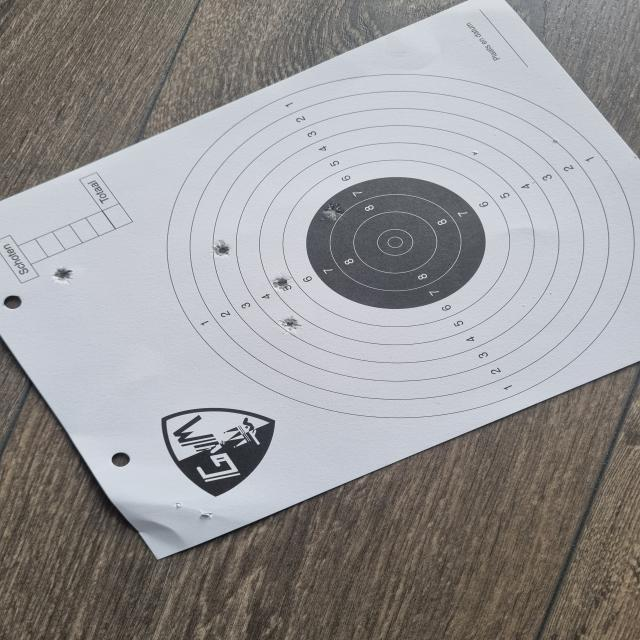0: (51, 268, 72, 284)
3: (210, 239, 231, 257)
4: (279, 316, 303, 332)
5: (268, 277, 291, 291)
8: (323, 203, 346, 221)
Target: (166, 72, 636, 420)
black_contour: (307, 177, 485, 310)
